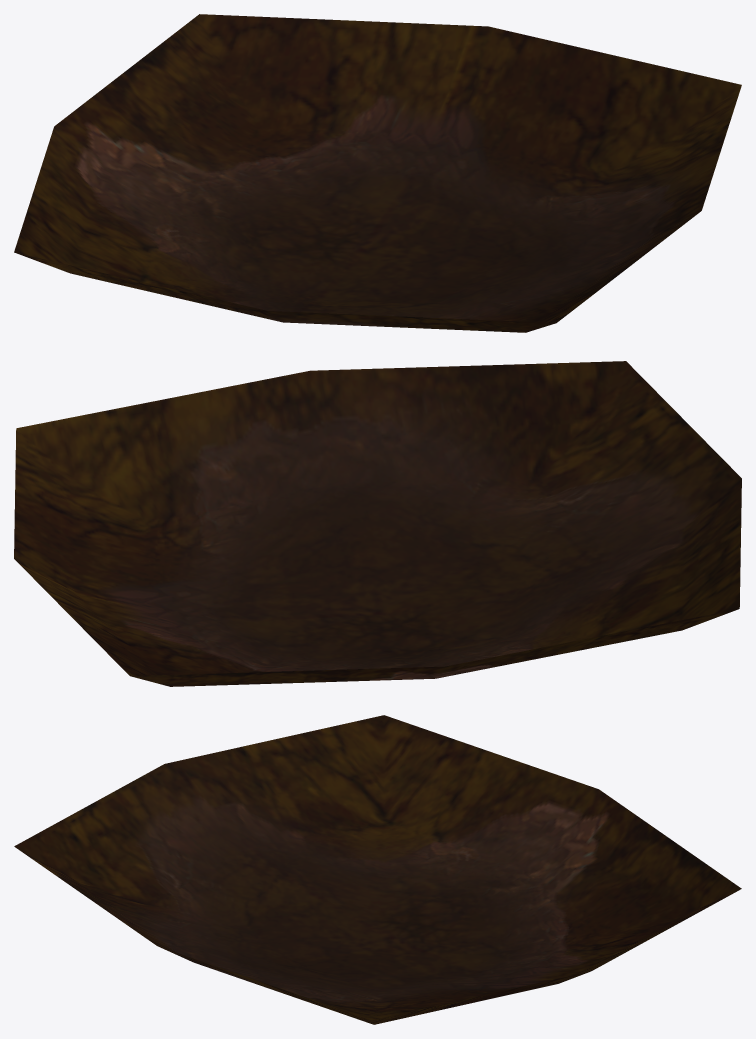
Rendered from BackView.FBX.
3 views of the same model, one above another, from view 1: azimuth 30°, elevation 25°; view 2: azimuth 150°, elevation 25°; view 3: azimuth 270°, elevation 25° (orthographic). The views are drawn at different scales.
Parts seen in each view (by area): view 1: BackView; view 2: BackView; view 3: BackView.
Part boxes in pixels (x1=…): BackView: x1=14, y1=14, x2=741, y2=332; BackView: x1=14, y1=361, x2=741, y2=686; BackView: x1=14, y1=715, x2=741, y2=1024.
Bounding box in the file's own units: 7284 × 914 × 7410.
